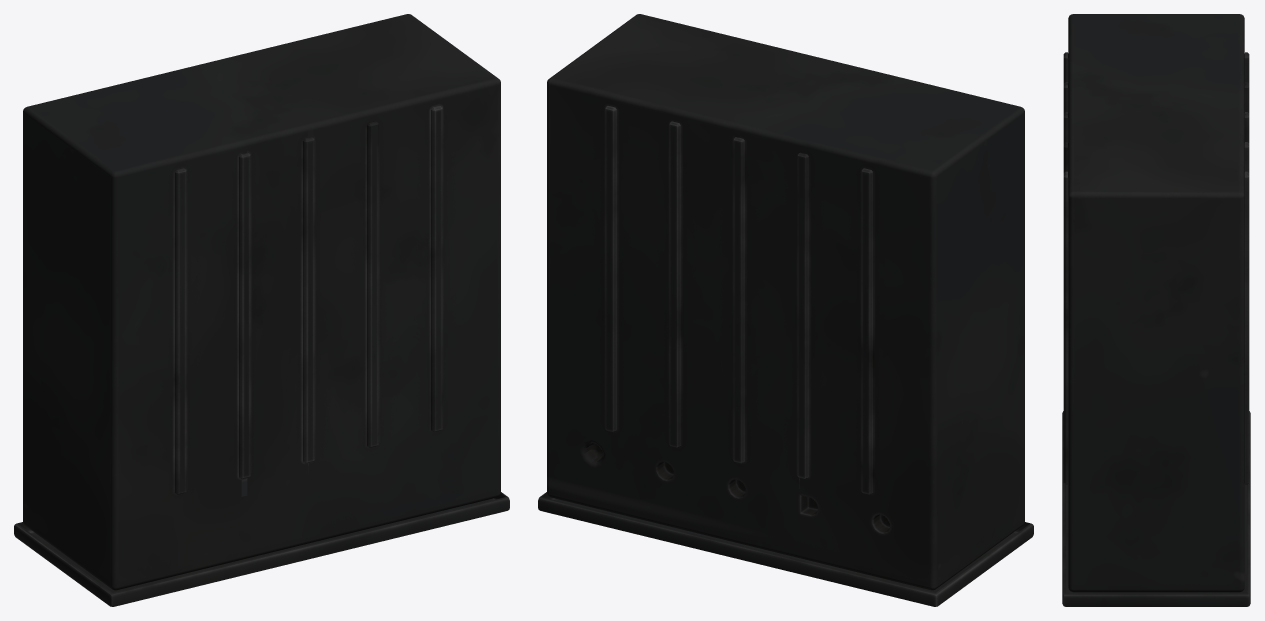
File: afm107_mag_lod1.fbx
3 views of the same model, side by side, from view 1: azimuth 30°, elevation 25°; view 2: azimuth 150°, elevation 25°; view 3: azimuth 270°, elevation 25° (orthographic). The views are drawn at different scales.
Visible parts, largest first — view 1: M107M_LOD_1; view 2: M107M_LOD_1; view 3: M107M_LOD_1.
Part boxes in pixels (x1=…): M107M_LOD_1: x1=14, y1=14, x2=509, y2=606; M107M_LOD_1: x1=538, y1=14, x2=1033, y2=606; M107M_LOD_1: x1=1062, y1=14, x2=1250, y2=606.
Bounding box in the file's own units: 15 × 6.4 × 15.45.
